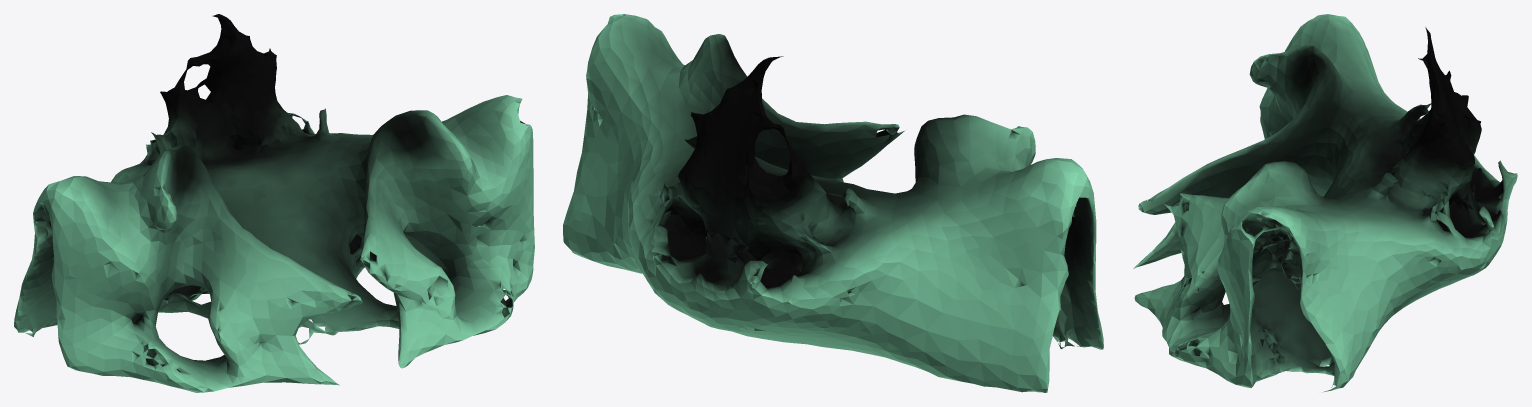
The model's file is Geometry3_lao.dae.
3 renders of one model, left to right at view 1: azimuth 30°, elevation 25°; view 2: azimuth 150°, elevation 25°; view 3: azimuth 270°, elevation 25°, orthographic. The views are drawn at different scales.
Visible parts, largest first — view 1: node; view 2: node; view 3: node.
Part boxes in pixels (x1,y1,x2,y2): node: [14, 14, 534, 392]; node: [563, 14, 1103, 392]; node: [1133, 14, 1517, 392].
Size of the model in its own units: 95.15 by 52.71 by 71.55.
